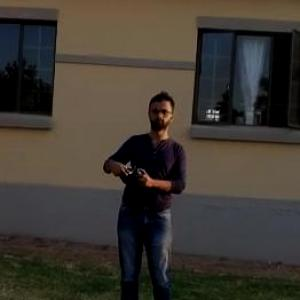follow: (98, 87, 189, 299)
